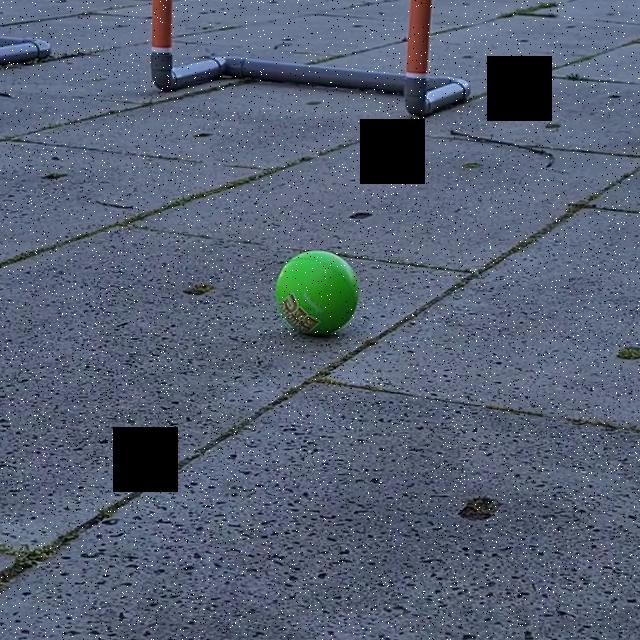ball: (272, 244, 362, 341)
